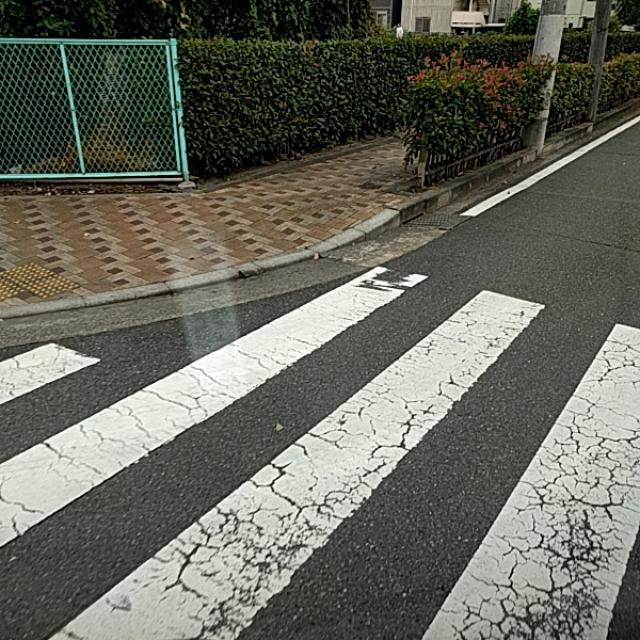pothole: (301, 542, 607, 626)
